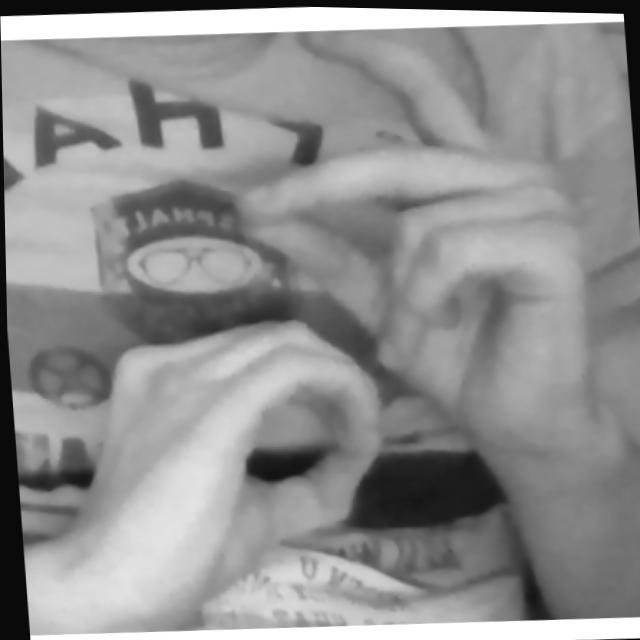O--: (32, 11, 611, 640)
